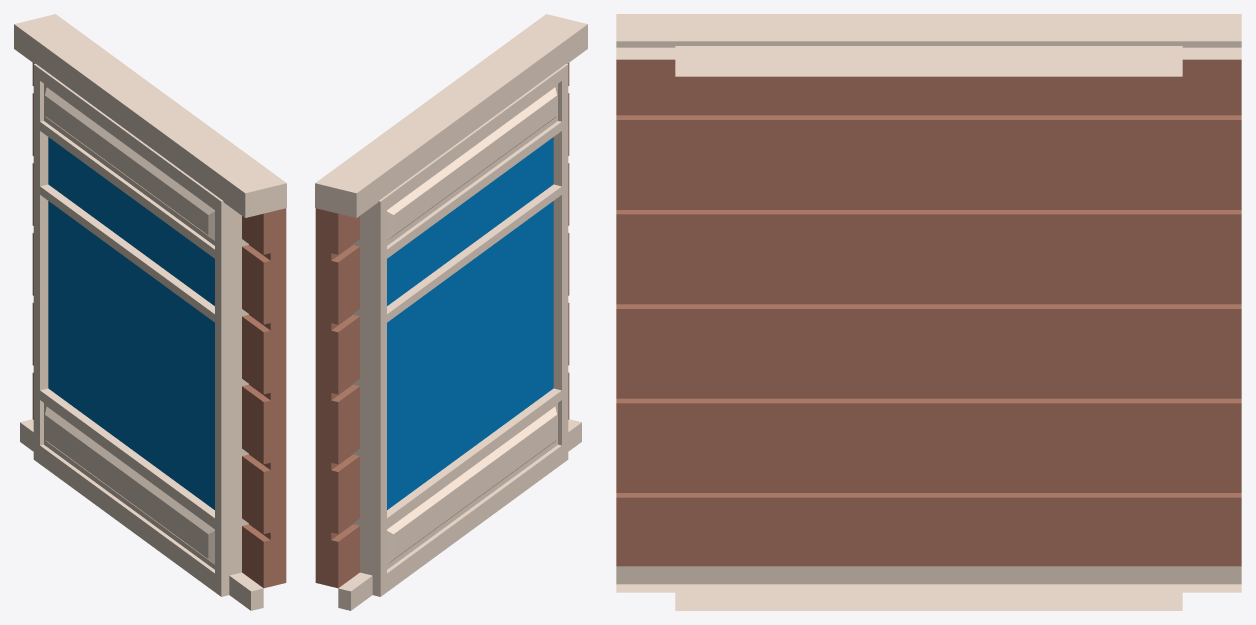
The model's file is O_V_F_Type5_Vitrine.fbx.
3 views of the same model, side by side, from view 1: azimuth 30°, elevation 25°; view 2: azimuth 150°, elevation 25°; view 3: azimuth 270°, elevation 25° (orthographic). The views are drawn at different scales.
Visible parts, largest first — view 1: Box020; view 2: Box020; view 3: Box020.
Boxes of the visible parts, bbox=[...] form: Box020: bbox=[14, 14, 286, 610]; Box020: bbox=[315, 14, 587, 610]; Box020: bbox=[616, 14, 1241, 610].
Bounding box in the file's own units: 0.3693 × 3 × 3.
